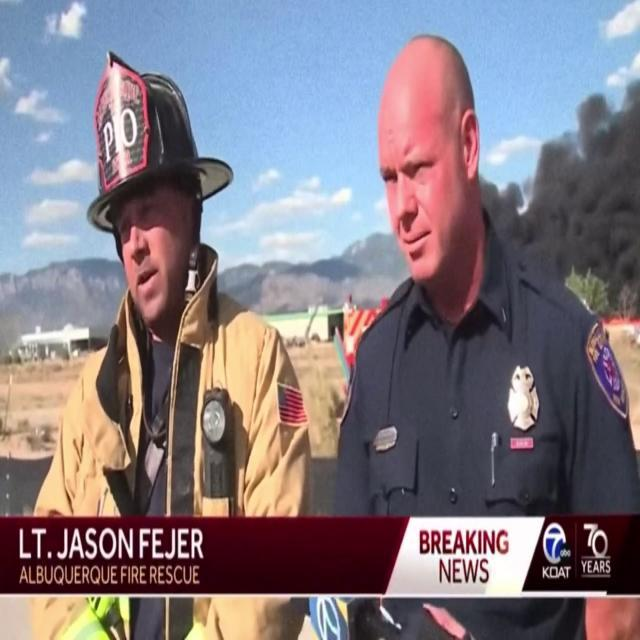Smoke: (515, 34, 640, 304)
